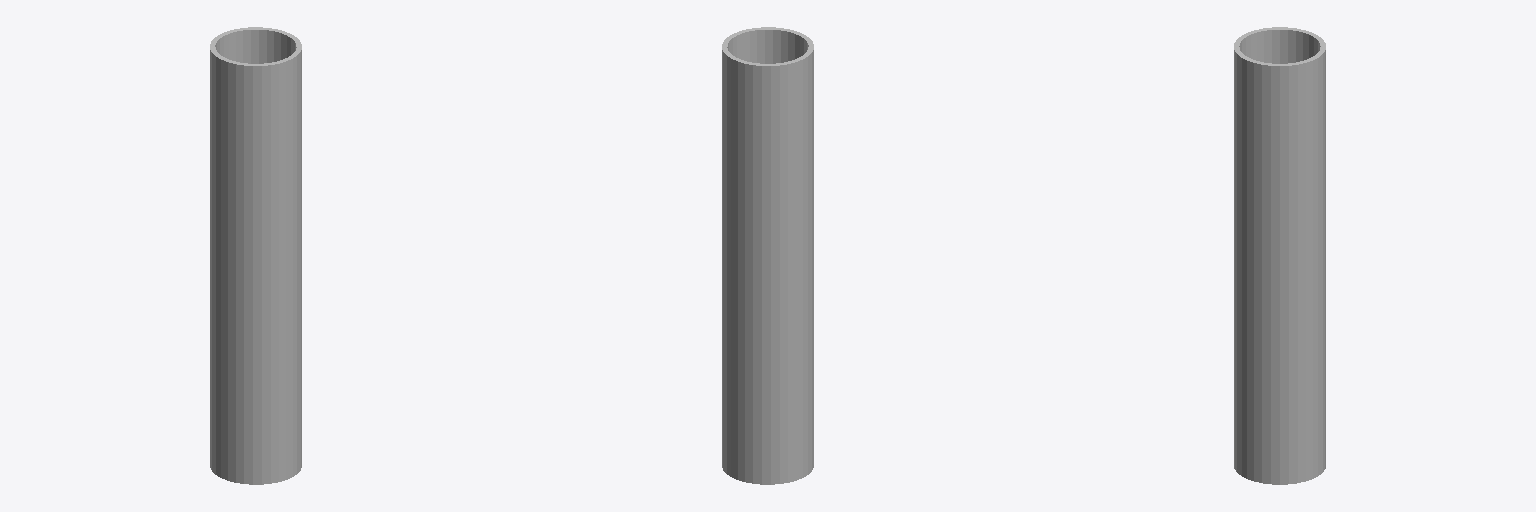
The model's file is Updatedv4Tunnel.obj.
3 renders of one model, left to right at view 1: azimuth 30°, elevation 25°; view 2: azimuth 150°, elevation 25°; view 3: azimuth 270°, elevation 25°, orthographic.
Parts seen in each view (by area): view 1: Cylinder_Cylinder.001; view 2: Cylinder_Cylinder.001; view 3: Cylinder_Cylinder.001.
Part boxes in pixels (left/top/right/bottom): Cylinder_Cylinder.001: left=210, top=27, right=301, bottom=484; Cylinder_Cylinder.001: left=722, top=27, right=813, bottom=484; Cylinder_Cylinder.001: left=1234, top=27, right=1325, bottom=484.
Bounding box in the file's own units: 2 × 10 × 2.